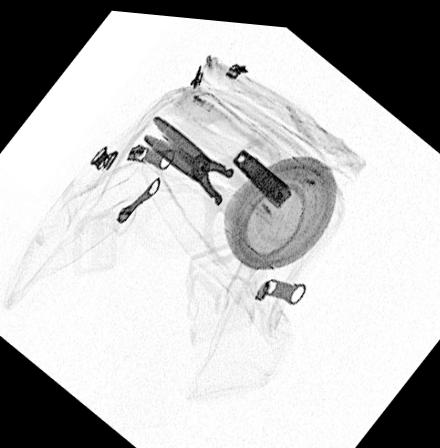Scissors: (141, 106, 287, 264)
